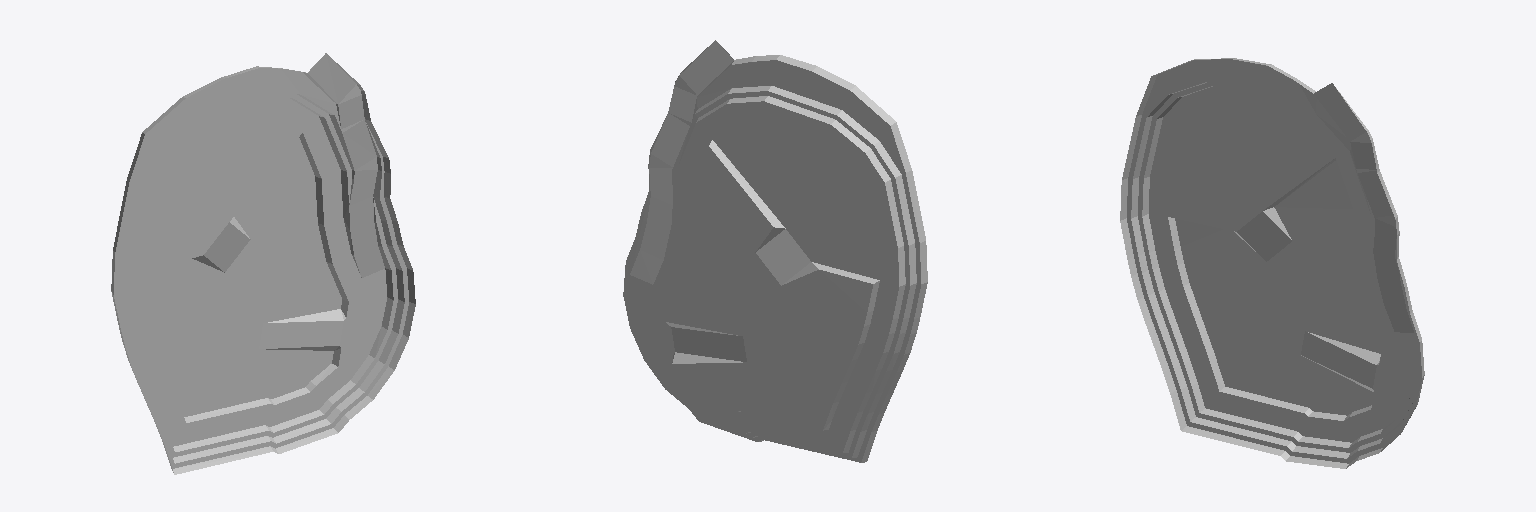
File: KIRRA_OBJ_CC.obj
3 views of the same model, side by side, from view 1: azimuth 30°, elevation 25°; view 2: azimuth 150°, elevation 25°; view 3: azimuth 330°, elevation 25° (orthographic).
Parts seen in each view (by area): view 1: Faces; view 2: Faces; view 3: Faces.
Boxes of the visible parts, box(x1,y1,x2,y2) form: Faces: box(111, 53, 415, 474); Faces: box(623, 40, 927, 462); Faces: box(1120, 58, 1424, 468).
Bounding box in the file's own units: 469 × 580 × 48.